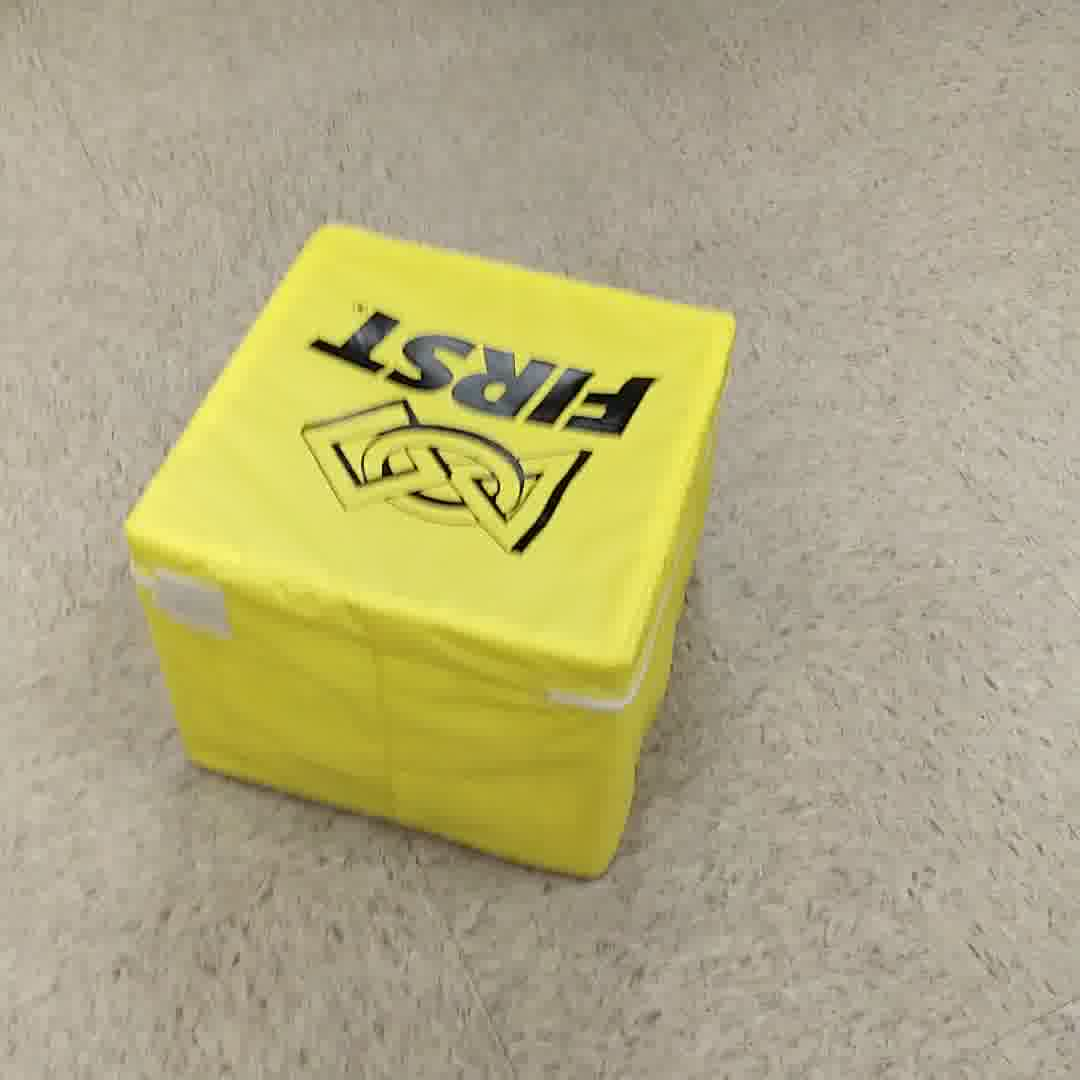box: (105, 228, 753, 884)
